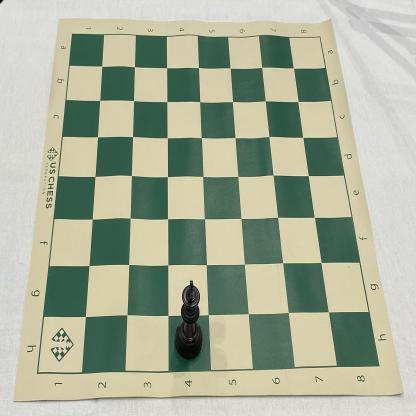black-king: (174, 279, 203, 361)
